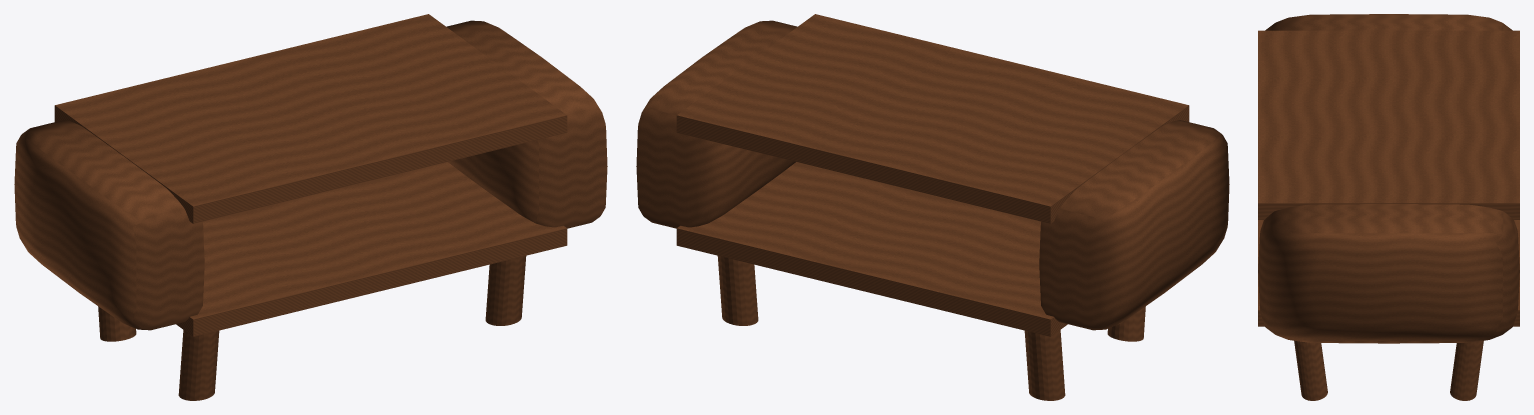
3 renders of one model, left to right at view 1: azimuth 30°, elevation 25°; view 2: azimuth 150°, elevation 25°; view 3: azimuth 270°, elevation 25°, orthographic. The views are drawn at different scales.
Visible parts, largest first — view 1: 1 tabletop, 2 bottom_shelf, 3 left_curved_side, 4 right_curved_side, 5 front_left_leg, 6 front_right_leg, 7 back_left_leg; view 2: 1 tabletop, 2 bottom_shelf, 3 left_curved_side, 4 right_curved_side, 7 back_left_leg, 8 back_right_leg, 5 front_left_leg; view 3: 1 tabletop, 4 right_curved_side, 3 left_curved_side, 6 front_right_leg, 8 back_right_leg, 2 bottom_shelf.
Boxes of the visible parts, x1,y1,x2,y2 form: 1 tabletop: (54, 14, 567, 223); 2 bottom_shelf: (176, 162, 567, 336); 3 left_curved_side: (14, 120, 204, 330); 4 right_curved_side: (446, 20, 607, 228); 5 front_left_leg: (178, 330, 219, 400); 6 front_right_leg: (485, 256, 526, 325); 7 back_left_leg: (98, 306, 136, 341); 1 tabletop: (676, 14, 1189, 223); 2 bottom_shelf: (676, 162, 1067, 336); 3 left_curved_side: (1039, 120, 1229, 330); 4 right_curved_side: (636, 20, 797, 228); 7 back_left_leg: (1024, 330, 1065, 400); 8 back_right_leg: (717, 256, 758, 325); 5 front_left_leg: (1107, 306, 1145, 341); 1 tabletop: (1258, 30, 1519, 219); 4 right_curved_side: (1258, 204, 1519, 343); 3 left_curved_side: (1265, 14, 1512, 30); 6 front_right_leg: (1294, 340, 1327, 400); 8 back_right_leg: (1450, 340, 1483, 400); 2 bottom_shelf: (1258, 220, 1519, 326).
Size of the model in its own units: 2.3 by 1 by 1.15.
1 material, 1 textured.
